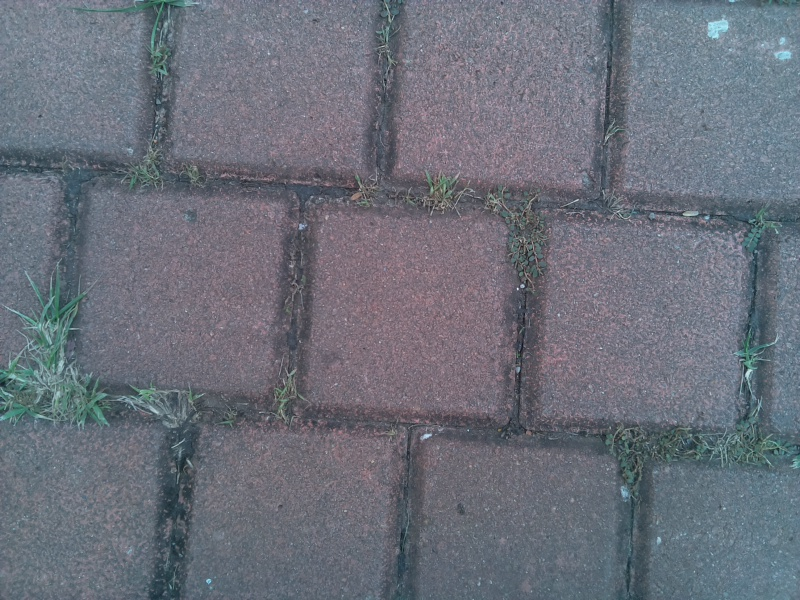Weed: (1, 270, 112, 432), (682, 411, 800, 487), (486, 184, 548, 294), (593, 422, 686, 489), (124, 382, 211, 434), (734, 330, 773, 425), (143, 9, 180, 84), (376, 4, 403, 104), (415, 168, 464, 221), (118, 143, 168, 194), (737, 207, 782, 260), (266, 365, 303, 428), (348, 163, 385, 208), (176, 158, 209, 196)
